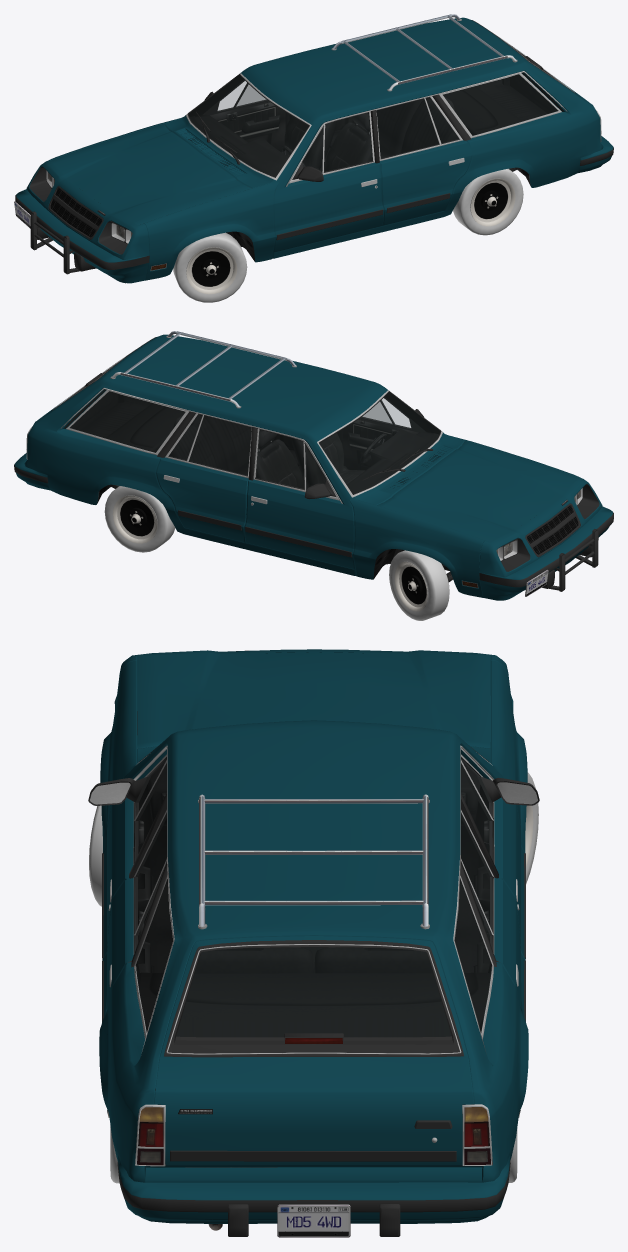
3 renders of one model, top to bottom at view 1: azimuth 30°, elevation 25°; view 2: azimuth 150°, elevation 25°; view 3: azimuth 270°, elevation 25°, orthographic. The views are drawn at different scales.
Parts seen in each view (by area): view 1: body_Body_0, hood_Body_0, Door_FL_Body_0, Seats_GEN4DR_INTERIOR_0, Windshield_UCB_GLASS_CLEAN_0, bottom, Door_RL_Body_0, interior, glass_body_UCB_GLASS_CLEAN_0, Door_Glass_RL_UCB_GLASS_CLEAN_0, Grill_UCB_BOTTOM_0, Door_Glass_FL_UCB_GLASS_CLEAN_0 (+14 smaller); view 2: body_Body_0, hood_Body_0, Seats_GEN4DR_INTERIOR_0, Door_FR_Body_0, Windshield_UCB_GLASS_CLEAN_0, bottom, Door_RR_Body_0, interior, glass_body_UCB_GLASS_CLEAN_0, Door_Glass_RR_UCB_GLASS_CLEAN_0, Grill_UCB_BOTTOM_0, Door_Glass_FR_UCB_GLASS_CLEAN_0 (+14 smaller); view 3: body_Body_0, Trunkdoor_Body_0, hood_Body_0, interior, Trunkdoor_glass_UCB_GLASS_CLEAN_0, Trunkdoor_inner_UCB_BOTTOM_0, Bumper_rear_Body_0, bottom, Seats_GEN4DR_INTERIOR_0, Bumper_rear_inner_UCB_BOTTOM_0, glass_body_UCB_GLASS_CLEAN_0, Taillights (+16 smaller).
Boxes of the visible parts, <box> form: body_Body_0: <box>26,17,603,280</box>; hood_Body_0: <box>50,123,251,225</box>; Door_FL_Body_0: <box>273,162,384,252</box>; Seats_GEN4DR_INTERIOR_0: <box>281,95,458,171</box>; Windshield_UCB_GLASS_CLEAN_0: <box>188,75,308,176</box>; bottom: <box>125,14,567,283</box>; Door_RL_Body_0: <box>380,140,472,225</box>; interior: <box>188,75,547,171</box>; glass_body_UCB_GLASS_CLEAN_0: <box>443,74,557,135</box>; Door_Glass_RL_UCB_GLASS_CLEAN_0: <box>377,97,458,158</box>; Grill_UCB_BOTTOM_0: <box>29,167,131,254</box>; Door_Glass_FL_UCB_GLASS_CLEAN_0: <box>302,113,372,171</box>; body_Body_0: <box>24,334,602,597</box>; hood_Body_0: <box>377,441,578,542</box>; Seats_GEN4DR_INTERIOR_0: <box>169,413,365,488</box>; Door_FR_Body_0: <box>244,479,355,569</box>; Windshield_UCB_GLASS_CLEAN_0: <box>320,392,440,493</box>; bottom: <box>60,331,503,600</box>; Door_RR_Body_0: <box>156,457,248,542</box>; interior: <box>80,392,440,488</box>; glass_body_UCB_GLASS_CLEAN_0: <box>70,391,184,452</box>; Door_Glass_RR_UCB_GLASS_CLEAN_0: <box>169,414,251,475</box>; Grill_UCB_BOTTOM_0: <box>497,484,599,571</box>; Door_Glass_FR_UCB_GLASS_CLEAN_0: <box>255,430,325,489</box>; body_Body_0: <box>99,649,528,1182</box>; Trunkdoor_Body_0: <box>153,935,474,1167</box>; hood_Body_0: <box>137,652,490,748</box>; interior: <box>135,784,491,1037</box>; Trunkdoor_glass_UCB_GLASS_CLEAN_0: <box>176,947,451,1036</box>; Trunkdoor_inner_UCB_BOTTOM_0: <box>155,940,463,1167</box>; Bumper_rear_Body_0: <box>118,1155,509,1223</box>; bottom: <box>129,711,498,1167</box>; Seats_GEN4DR_INTERIOR_0: <box>170,916,457,973</box>; Bumper_rear_inner_UCB_BOTTOM_0: <box>117,1161,510,1236</box>; glass_body_UCB_GLASS_CLEAN_0: <box>136,879,491,1032</box>; Taillights: <box>135,1104,492,1166</box>.
Size of the model in its own units: 5.01 by 1.4 by 1.86.
